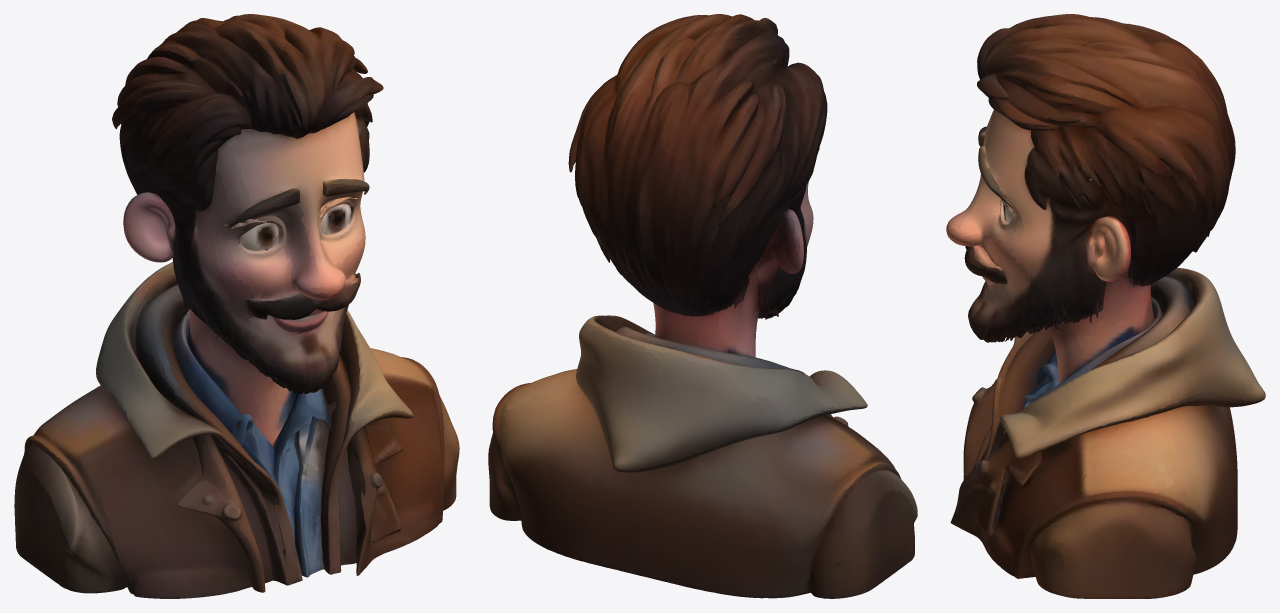
The model's file is statue_shell.glb.
3 renders of one model, left to right at view 1: azimuth 30°, elevation 25°; view 2: azimuth 150°, elevation 25°; view 3: azimuth 270°, elevation 25°, orthographic. The views are drawn at different scales.
Visible parts, largest first — view 1: Statue_Outer_Shell; view 2: Statue_Outer_Shell; view 3: Statue_Outer_Shell.
Boxes of the visible parts, box(x1,y1,x2,y2) form: Statue_Outer_Shell: box(14, 14, 459, 598); Statue_Outer_Shell: box(488, 14, 917, 598); Statue_Outer_Shell: box(946, 14, 1265, 598).
Bounding box in the file's own units: 0.8124 × 1 × 0.5939.
Materials: 1 (1 with a texture image).
